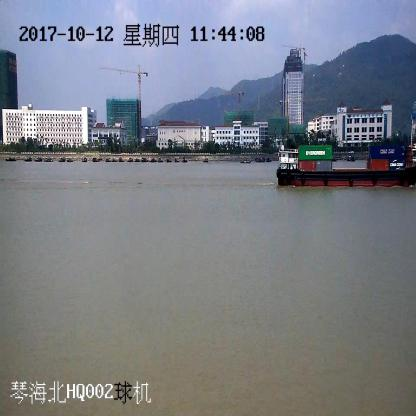Container Ship: (277, 145, 416, 188)
